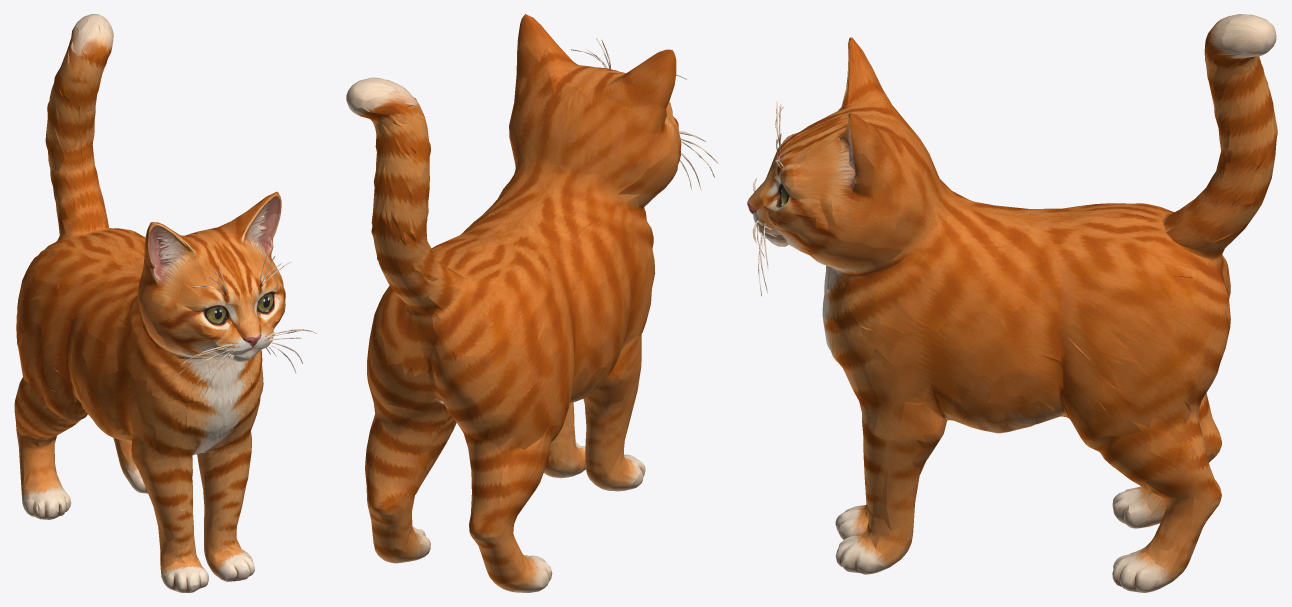
The model's file is cat.glb.
The picture shows the model from 3 angles, left to right: view 1: azimuth 30°, elevation 25°; view 2: azimuth 150°, elevation 25°; view 3: azimuth 270°, elevation 25°; orthographic projection. The views are drawn at different scales.
Size of the model in its own units: 0.104 by 0.3001 by 0.2589.
1 material, 1 textured.
